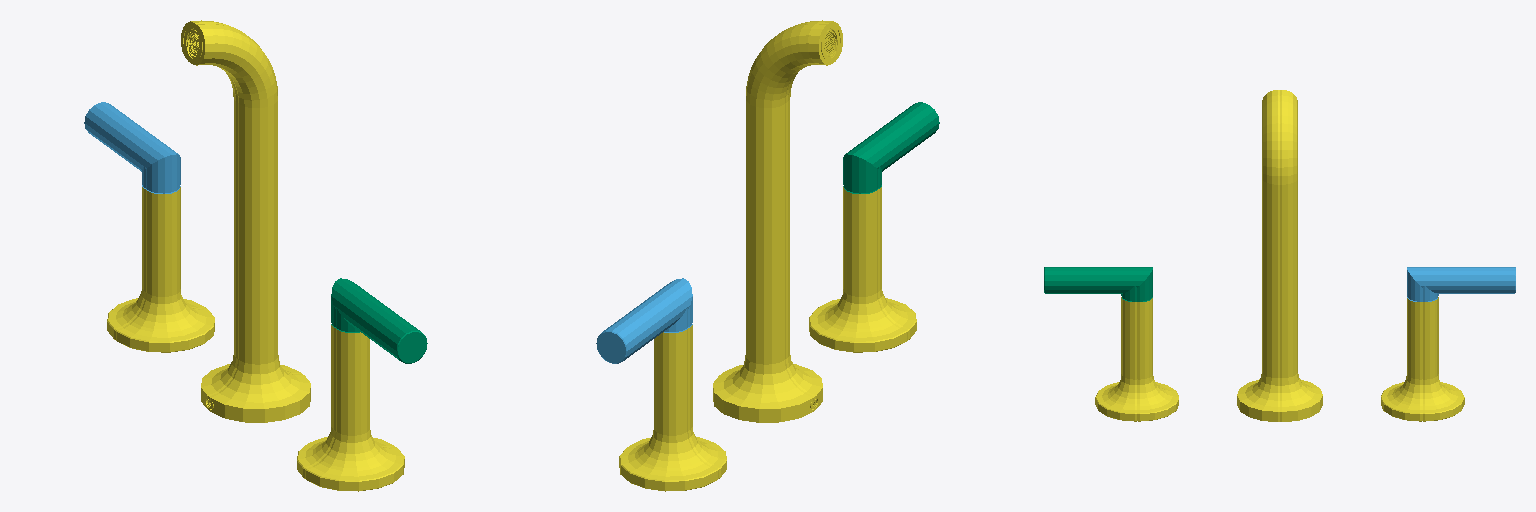
robot.urdf — partnet_38d17c83d5c891a2c36fb70296e45483:
<?xml version="1.0" ?>
<robot name="partnet_38d17c83d5c891a2c36fb70296e45483">
	<link name="base"/>
	<link name="link_0">
		<visual name="switch-2">
			<origin xyz="0.5947596561672509 -0.2135059904371368 0.006977235745210197"/>
			<geometry>
				<mesh filename="textured_objs/new-5.obj"/>
			</geometry>
		</visual>
		<collision>
			<origin xyz="0.5947596561672509 -0.2135059904371368 0.006977235745210197"/>
			<geometry>
				<mesh filename="textured_objs/new-5.obj"/>
			</geometry>
		</collision>
	</link>
	<joint name="joint_0" type="revolute">
		<origin xyz="-0.5947596561672509 0.2135059904371368 -0.006977235745210197"/>
		<axis xyz="0 1 0"/>
		<child link="link_0"/>
		<parent link="link_2"/>
		<limit lower="0.0" upper="1.5707963267948966"/>
	</joint>
	<link name="link_1">
		<visual name="switch-3">
			<origin xyz="-0.5909029643463815 -0.21202759366189827 -0.0004546773640918822"/>
			<geometry>
				<mesh filename="textured_objs/new-3.obj"/>
			</geometry>
		</visual>
		<collision>
			<origin xyz="-0.5909029643463815 -0.21202759366189827 -0.0004546773640918822"/>
			<geometry>
				<mesh filename="textured_objs/new-3.obj"/>
			</geometry>
		</collision>
	</link>
	<joint name="joint_1" type="revolute">
		<origin xyz="0.5909029643463815 0.21202759366189827 0.0004546773640918822"/>
		<axis xyz="0 -1 0"/>
		<child link="link_1"/>
		<parent link="link_2"/>
		<limit lower="-0.0" upper="1.5707963267948966"/>
	</joint>
	<link name="link_2">
		<visual name="surface_base-12">
			<origin xyz="0 0 0"/>
			<geometry>
				<mesh filename="textured_objs/new-8.obj"/>
			</geometry>
		</visual>
		<visual name="vertical_support-13">
			<origin xyz="0 0 0"/>
			<geometry>
				<mesh filename="textured_objs/new-4.obj"/>
			</geometry>
		</visual>
		<visual name="surface_base-9">
			<origin xyz="0 0 0"/>
			<geometry>
				<mesh filename="textured_objs/new-7.obj"/>
			</geometry>
		</visual>
		<visual name="vertical_support-10">
			<origin xyz="0 0 0"/>
			<geometry>
				<mesh filename="textured_objs/new-6.obj"/>
			</geometry>
		</visual>
		<visual name="surface_base-15">
			<origin xyz="0 0 0"/>
			<geometry>
				<mesh filename="textured_objs/new-2.obj"/>
			</geometry>
		</visual>
		<visual name="tube-7">
			<origin xyz="0 0 0"/>
			<geometry>
				<mesh filename="textured_objs/new-1.obj"/>
			</geometry>
		</visual>
		<visual name="mouth-8">
			<origin xyz="0 0 0"/>
			<geometry>
				<mesh filename="textured_objs/new-0.obj"/>
			</geometry>
		</visual>
		<collision>
			<origin xyz="0 0 0"/>
			<geometry>
				<mesh filename="textured_objs/new-8.obj"/>
			</geometry>
		</collision>
		<collision>
			<origin xyz="0 0 0"/>
			<geometry>
				<mesh filename="textured_objs/new-4.obj"/>
			</geometry>
		</collision>
		<collision>
			<origin xyz="0 0 0"/>
			<geometry>
				<mesh filename="textured_objs/new-7.obj"/>
			</geometry>
		</collision>
		<collision>
			<origin xyz="0 0 0"/>
			<geometry>
				<mesh filename="textured_objs/new-6.obj"/>
			</geometry>
		</collision>
		<collision>
			<origin xyz="0 0 0"/>
			<geometry>
				<mesh filename="textured_objs/new-2.obj"/>
			</geometry>
		</collision>
		<collision>
			<origin xyz="0 0 0"/>
			<geometry>
				<mesh filename="textured_objs/new-1.obj"/>
			</geometry>
		</collision>
		<collision>
			<origin xyz="0 0 0"/>
			<geometry>
				<mesh filename="textured_objs/new-0.obj"/>
			</geometry>
		</collision>
	</link>
	<joint name="joint_2" type="fixed">
		<origin rpy="1.570796326794897 0 -1.570796326794897" xyz="0 0 0"/>
		<child link="link_2"/>
		<parent link="base"/>
	</joint>
</robot>

--- Render facts (derived) ---
The picture shows the robot from 3 angles, left to right: view 1: azimuth 30°, elevation 25°; view 2: azimuth 150°, elevation 25°; view 3: azimuth 270°, elevation 25°; orthographic projection.
Robot: partnet_38d17c83d5c891a2c36fb70296e45483 — 4 links, 3 joints (2 revolute, 1 fixed); root link base; default pose: every joint at zero.
Links seen in each view (by area): view 1: link_2, link_0, link_1; view 2: link_2, link_1, link_0; view 3: link_2, link_0, link_1.
Link boxes in pixels (bbox=[...]): link_2: bbox=[107, 20, 404, 491]; link_0: bbox=[84, 102, 180, 193]; link_1: bbox=[331, 278, 427, 363]; link_2: bbox=[619, 20, 916, 491]; link_1: bbox=[843, 102, 939, 193]; link_0: bbox=[596, 278, 692, 363]; link_2: bbox=[1095, 90, 1464, 421]; link_0: bbox=[1407, 267, 1515, 301]; link_1: bbox=[1044, 267, 1152, 301].
Size in the robot's own frame: 0.4131 by 1.99 by 1.37 metres.
Meshes: 9 distinct files referenced, 9 mesh visuals loaded (9 OBJ).
